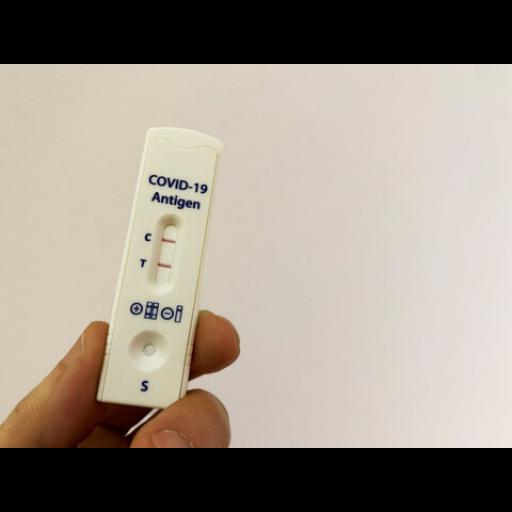Pos: (98, 125, 226, 409)
